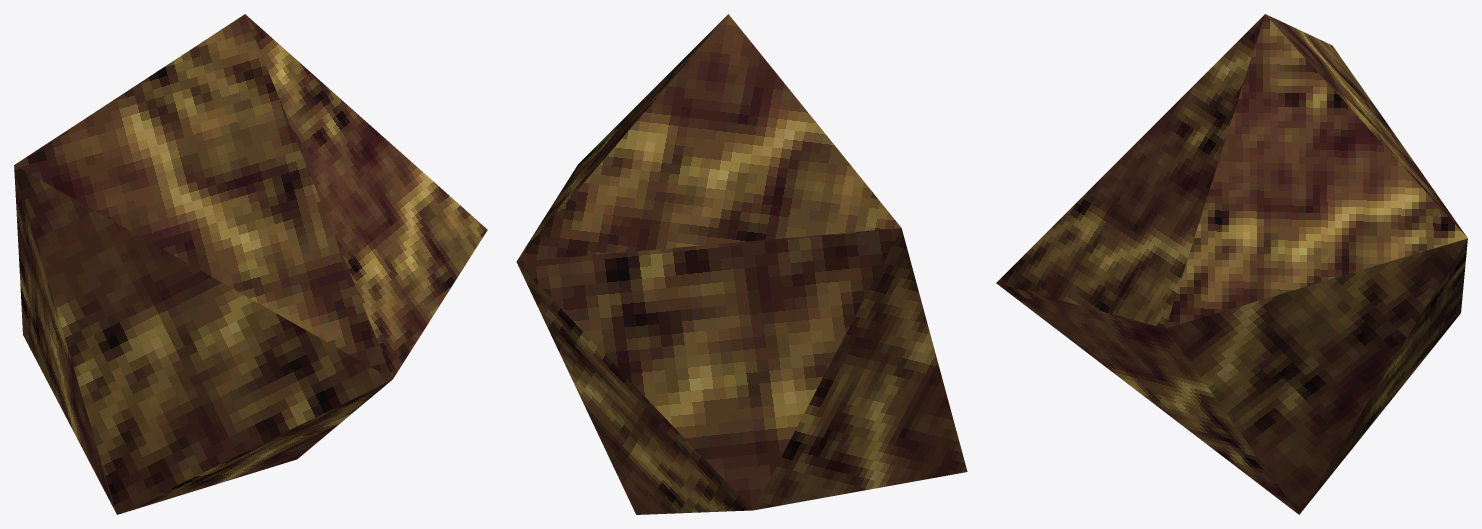
Rendered from small_brown_asteroid.fbx.
3 views of the same model, side by side, from view 1: azimuth 30°, elevation 25°; view 2: azimuth 150°, elevation 25°; view 3: azimuth 270°, elevation 25° (orthographic). The views are drawn at different scales.
Visible parts, largest first — view 1: small_brown_asteroid; view 2: small_brown_asteroid; view 3: small_brown_asteroid.
Part boxes in pixels (box(x1,y1,x2,y2)): small_brown_asteroid: box(14, 14, 487, 514); small_brown_asteroid: box(516, 14, 967, 514); small_brown_asteroid: box(996, 14, 1467, 514).
Bounding box in the file's own units: 10067 × 11744 × 10741.
1 material, 1 textured.
